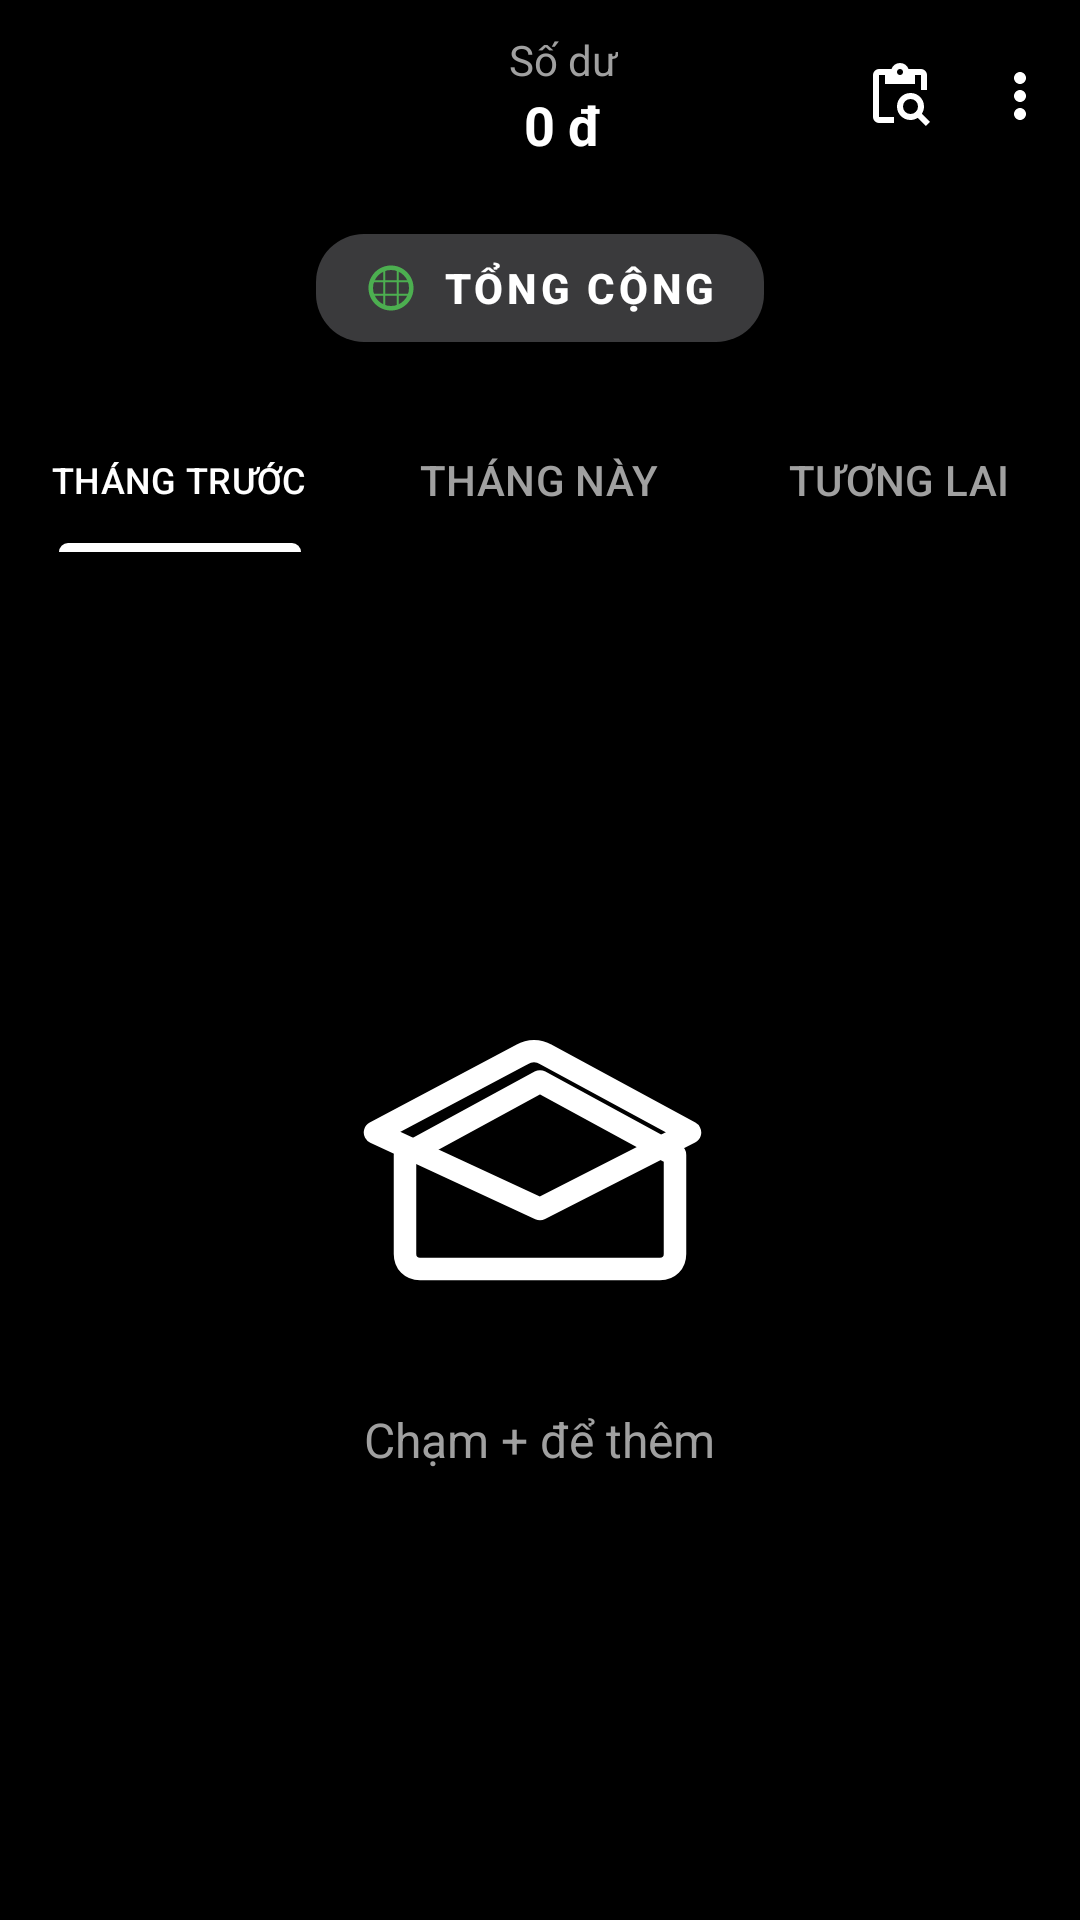

Icon bounding boxes for this 1080w x 1920h phone screenshot, format (x1, y1, x2, y2):
empty box: (363, 1040, 702, 1281)
more vert: (1014, 72, 1026, 120)
search: (873, 63, 930, 126)
